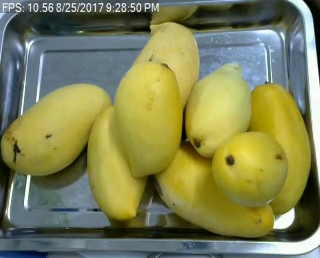Mango: (149, 139, 275, 236), (0, 83, 112, 177), (250, 84, 311, 216), (114, 62, 181, 177), (88, 105, 149, 218), (184, 61, 254, 157), (130, 22, 200, 109), (211, 131, 288, 208)
